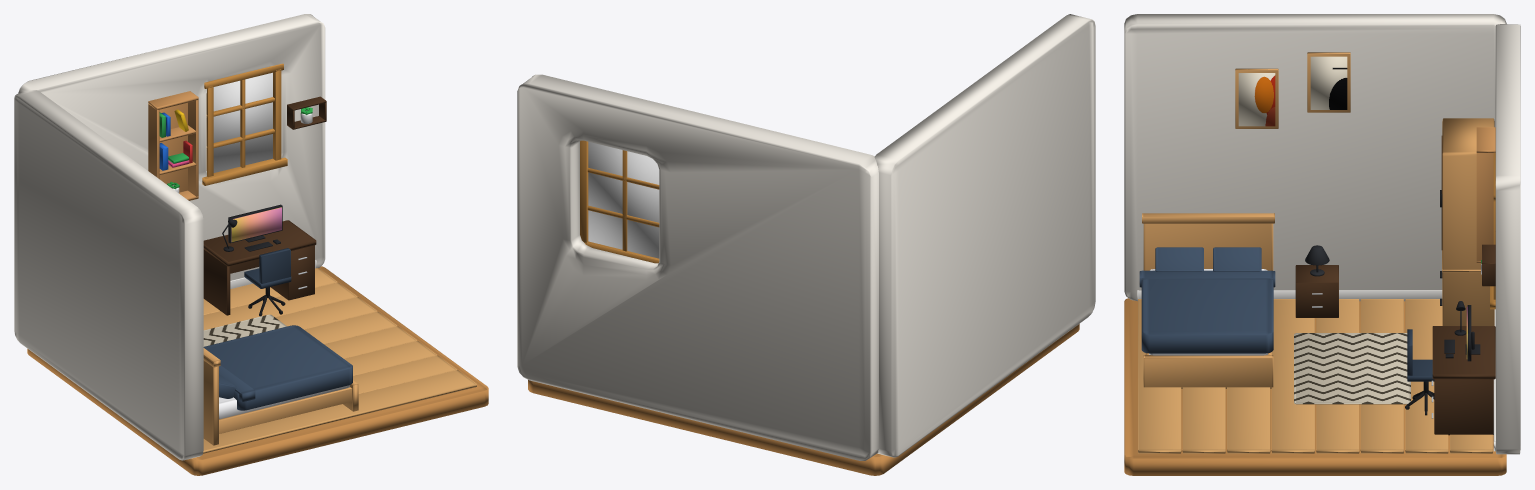
File: quarto.fbx
The picture shows the model from 3 angles, left to right: view 1: azimuth 30°, elevation 25°; view 2: azimuth 150°, elevation 25°; view 3: azimuth 270°, elevation 25°; orthographic projection. The views are drawn at different scales.
Visible parts, largest first — view 1: base, chao, cama, janela, movel 3, estante, xomputador, cadeira, tapete, nicho; view 2: base, janela; view 3: base, chao, cama, tapete, movel 2, movel 3, movel 1, quadro 2, quadro 1, estante, rodape, cadeira (+3 smaller).
Boxes of the visible parts, x1,y1,x2,y2 form: base: [14, 14, 488, 475]; chao: [203, 268, 476, 453]; cama: [203, 325, 358, 445]; janela: [202, 63, 287, 185]; movel 3: [203, 220, 316, 315]; estante: [148, 91, 198, 200]; xomputador: [228, 204, 282, 251]; cadeira: [244, 248, 291, 316]; tapete: [203, 314, 286, 346]; nicho: [287, 96, 326, 129]; base: [517, 14, 1095, 475]; janela: [580, 140, 659, 263]; base: [1124, 14, 1520, 475]; chao: [1138, 299, 1492, 453]; cama: [1139, 213, 1275, 388]; tapete: [1294, 333, 1410, 404]; movel 2: [1440, 118, 1494, 325]; movel 3: [1431, 326, 1495, 435]; movel 1: [1295, 245, 1338, 317]; quadro 2: [1307, 52, 1350, 112]; quadro 1: [1235, 68, 1278, 128]; estante: [1476, 127, 1495, 263]; rodape: [1137, 290, 1495, 451]; cadeira: [1405, 329, 1434, 415].
Bounding box in the file's own units: 4.41 × 3.62 × 4.41.
Materials: 29 (4 with a texture image).
